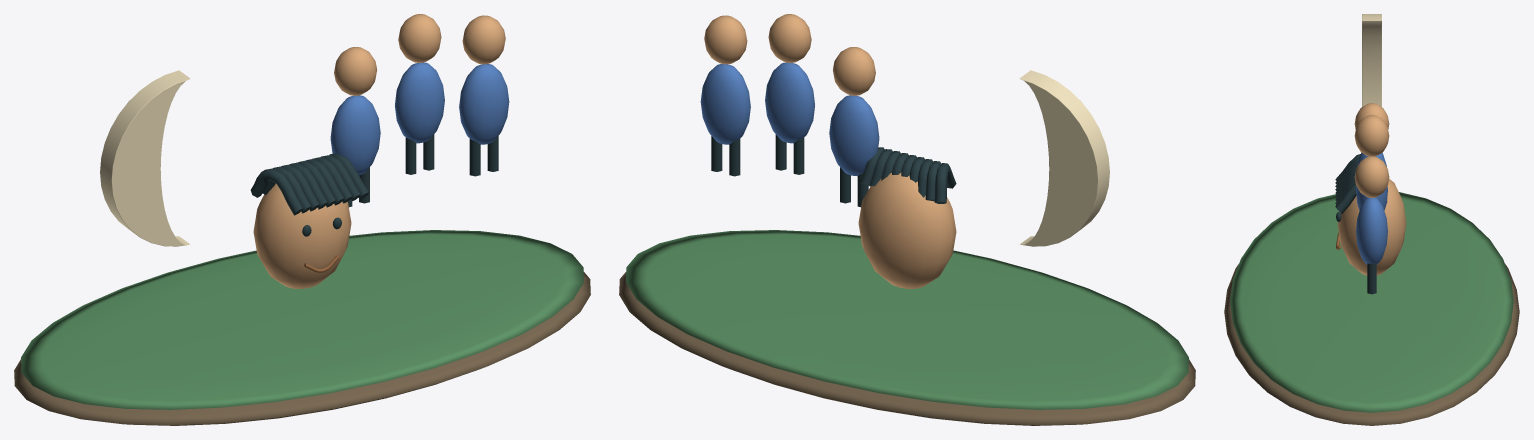
Rendered from complete-first-moon-face-group.glb.
The picture shows the model from 3 angles, left to right: view 1: azimuth 30°, elevation 25°; view 2: azimuth 150°, elevation 25°; view 3: azimuth 270°, elevation 25°; orthographic projection. The views are drawn at different scales.
Parts seen in each view (by area): view 1: complete-first-moon-face-group_surface_01, complete-first-moon-face-group_surface_03, complete-first-moon-face-group_surface_00, complete-first-moon-face-group_surface_04, complete-first-moon-face-group_surface_02, complete-first-moon-face-group_surface_05; view 2: complete-first-moon-face-group_surface_01, complete-first-moon-face-group_surface_03, complete-first-moon-face-group_surface_00, complete-first-moon-face-group_surface_04, complete-first-moon-face-group_surface_02, complete-first-moon-face-group_surface_05; view 3: complete-first-moon-face-group_surface_01, complete-first-moon-face-group_surface_03, complete-first-moon-face-group_surface_00, complete-first-moon-face-group_surface_04, complete-first-moon-face-group_surface_02, complete-first-moon-face-group_surface_05.
Boxes of the visible parts, x1,y1,x2,y2 form: complete-first-moon-face-group_surface_01: [21, 230, 583, 409]; complete-first-moon-face-group_surface_03: [253, 14, 505, 288]; complete-first-moon-face-group_surface_00: [14, 272, 590, 425]; complete-first-moon-face-group_surface_04: [330, 62, 509, 175]; complete-first-moon-face-group_surface_02: [100, 70, 190, 246]; complete-first-moon-face-group_surface_05: [250, 134, 498, 236]; complete-first-moon-face-group_surface_01: [626, 230, 1188, 409]; complete-first-moon-face-group_surface_03: [704, 14, 956, 288]; complete-first-moon-face-group_surface_00: [619, 272, 1195, 425]; complete-first-moon-face-group_surface_04: [700, 62, 879, 176]; complete-first-moon-face-group_surface_02: [1019, 70, 1109, 246]; complete-first-moon-face-group_surface_05: [711, 134, 956, 207]; complete-first-moon-face-group_surface_01: [1230, 192, 1513, 412]; complete-first-moon-face-group_surface_03: [1337, 103, 1406, 275]; complete-first-moon-face-group_surface_00: [1224, 264, 1519, 425]; complete-first-moon-face-group_surface_04: [1356, 152, 1387, 264]; complete-first-moon-face-group_surface_02: [1362, 14, 1381, 106]; complete-first-moon-face-group_surface_05: [1335, 154, 1387, 294].
Size of the model in its own units: 4.56 by 2.41 by 2.5.
